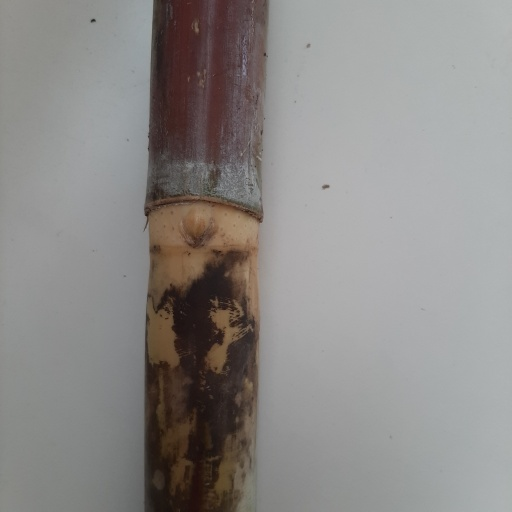Bud: (179, 206, 216, 249)
